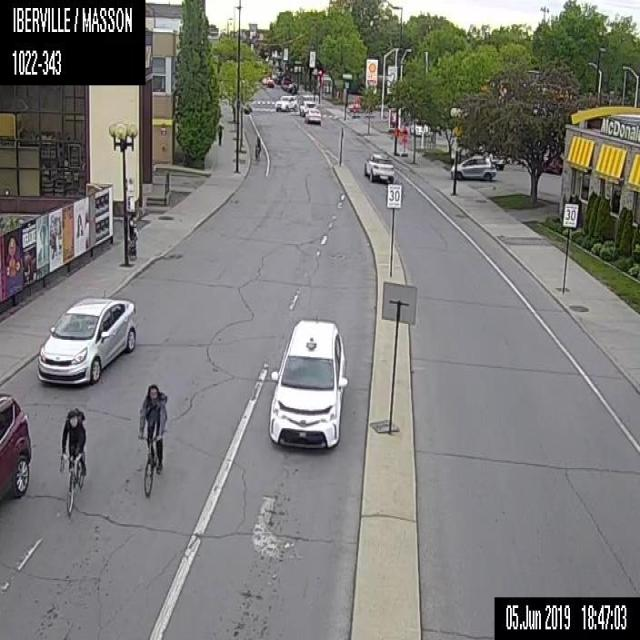construction: (400, 126, 407, 156), (393, 126, 399, 156)
cyclist: (136, 383, 168, 496), (58, 408, 86, 513), (254, 135, 261, 158)
pedestrian: (127, 212, 137, 256), (218, 123, 224, 144)
vehicle: (268, 318, 348, 450), (35, 295, 138, 384), (0, 392, 32, 501), (450, 155, 496, 182), (362, 152, 394, 183), (274, 94, 297, 111), (488, 152, 504, 170), (298, 100, 316, 116), (304, 108, 320, 124)
